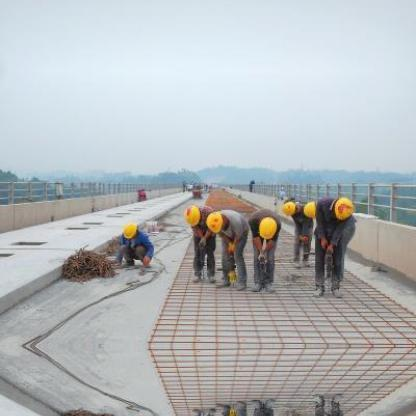helmet: (258, 214, 279, 244), (334, 196, 356, 222), (205, 211, 225, 235), (183, 204, 202, 228), (120, 219, 137, 240), (302, 201, 319, 221), (281, 199, 294, 218)
